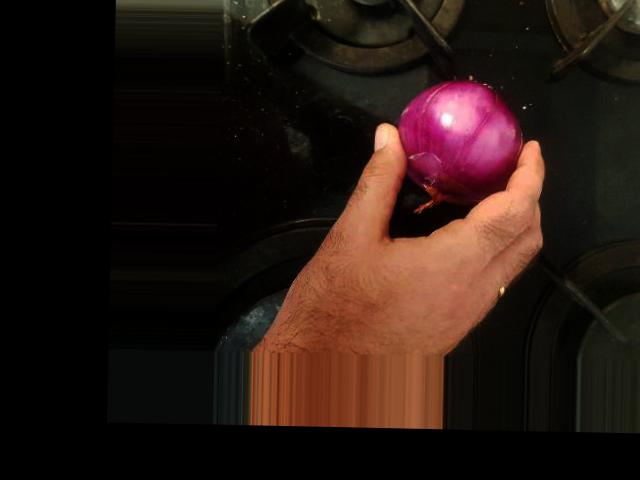onion: (510, 17, 630, 144)
